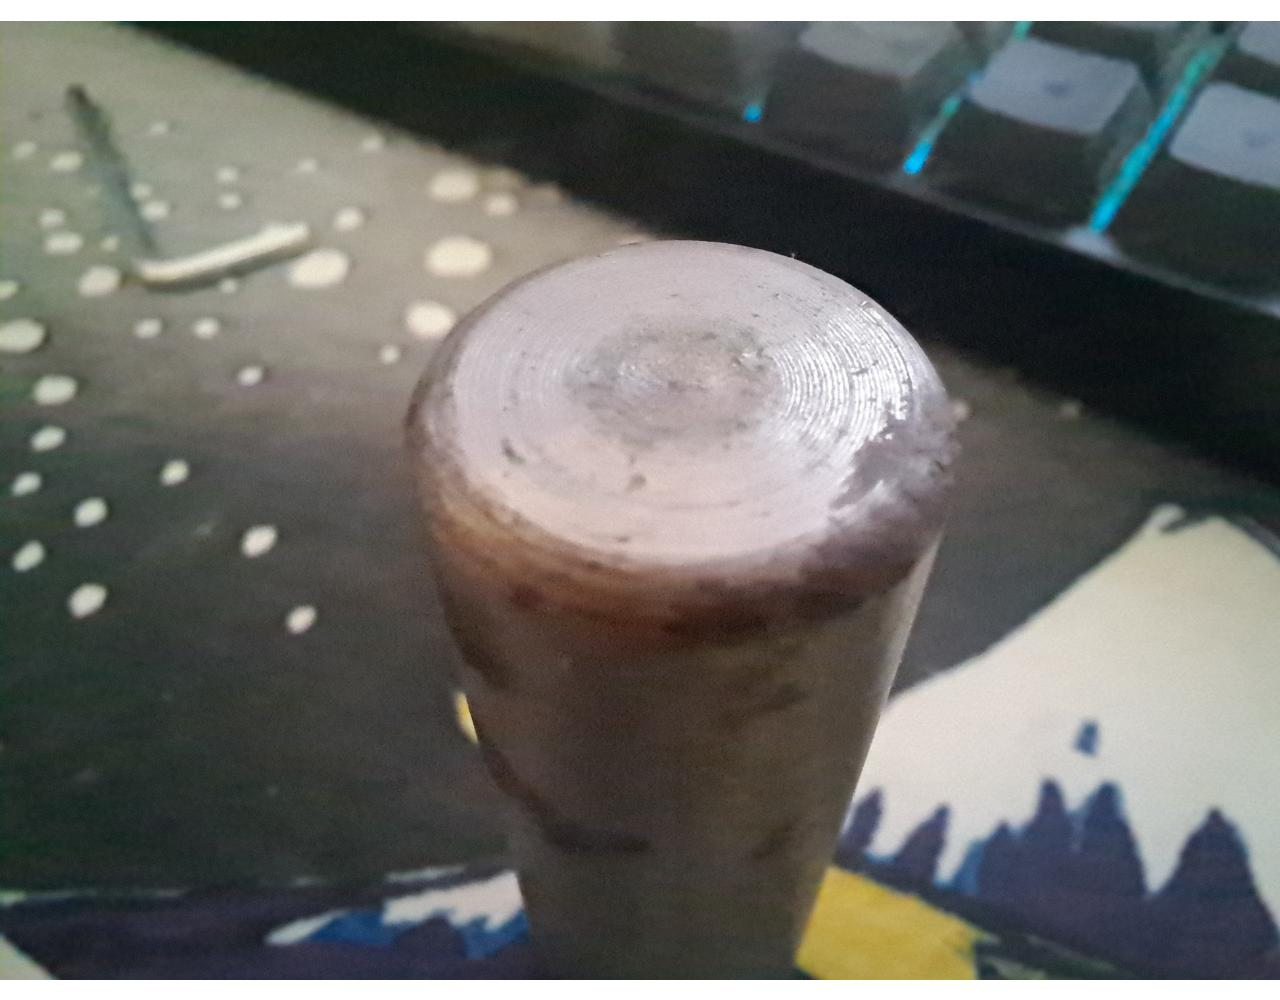planson: (406, 237, 959, 980)
